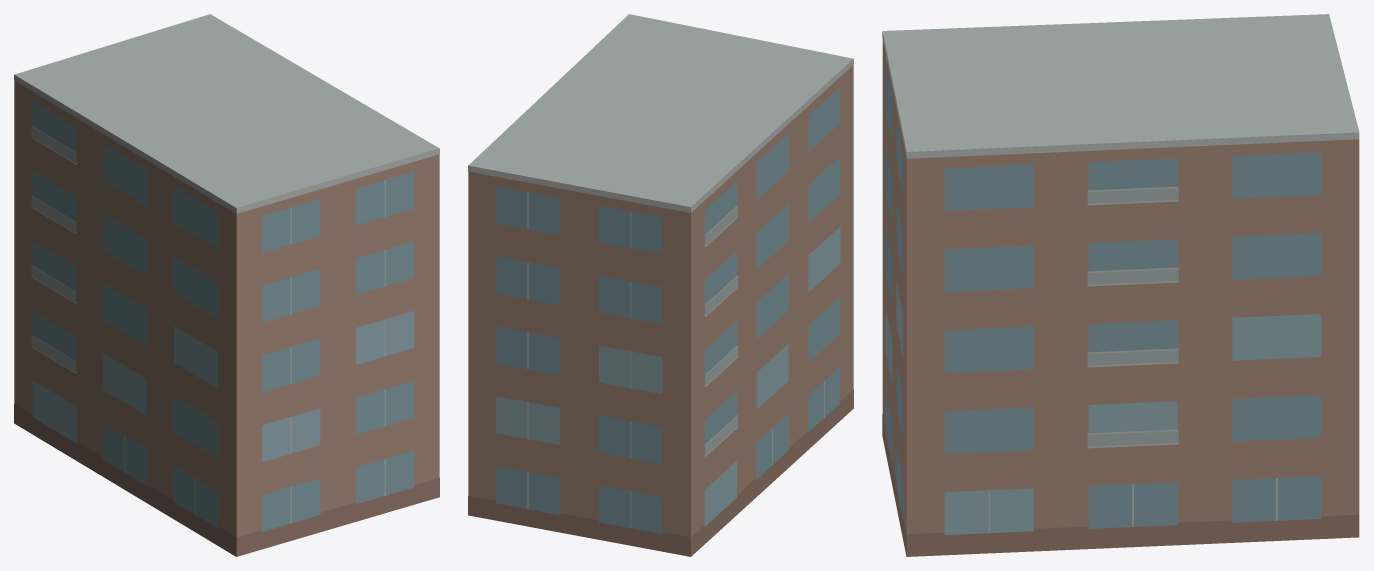
Rendered from survey-upis-32653499.glb.
The picture shows the model from 3 angles, left to right: view 1: azimuth 30°, elevation 25°; view 2: azimuth 150°, elevation 25°; view 3: azimuth 270°, elevation 25°; orthographic projection. The views are drawn at different scales.
Visible parts, largest first — view 1: survey-upis-32653499.tmp; view 2: survey-upis-32653499.tmp; view 3: survey-upis-32653499.tmp.
Part boxes in pixels (x1,y1,x2,y2): survey-upis-32653499.tmp: [14, 14, 439, 556]; survey-upis-32653499.tmp: [468, 14, 853, 556]; survey-upis-32653499.tmp: [882, 14, 1359, 556].
Bounding box in the file's own units: 10.61 × 14.5 × 15.49.
